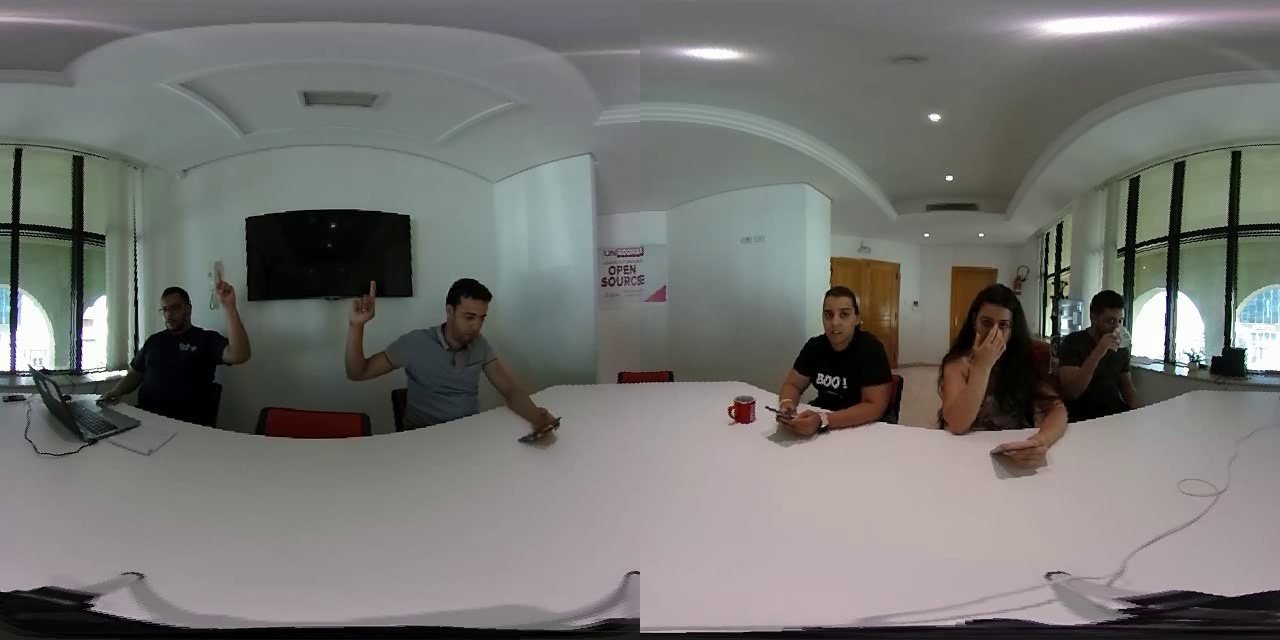hand_up: (203, 264, 253, 391), (341, 269, 388, 399)
person: (339, 265, 519, 453), (111, 264, 254, 438), (772, 266, 900, 441), (928, 275, 1056, 448), (1061, 272, 1152, 434)
